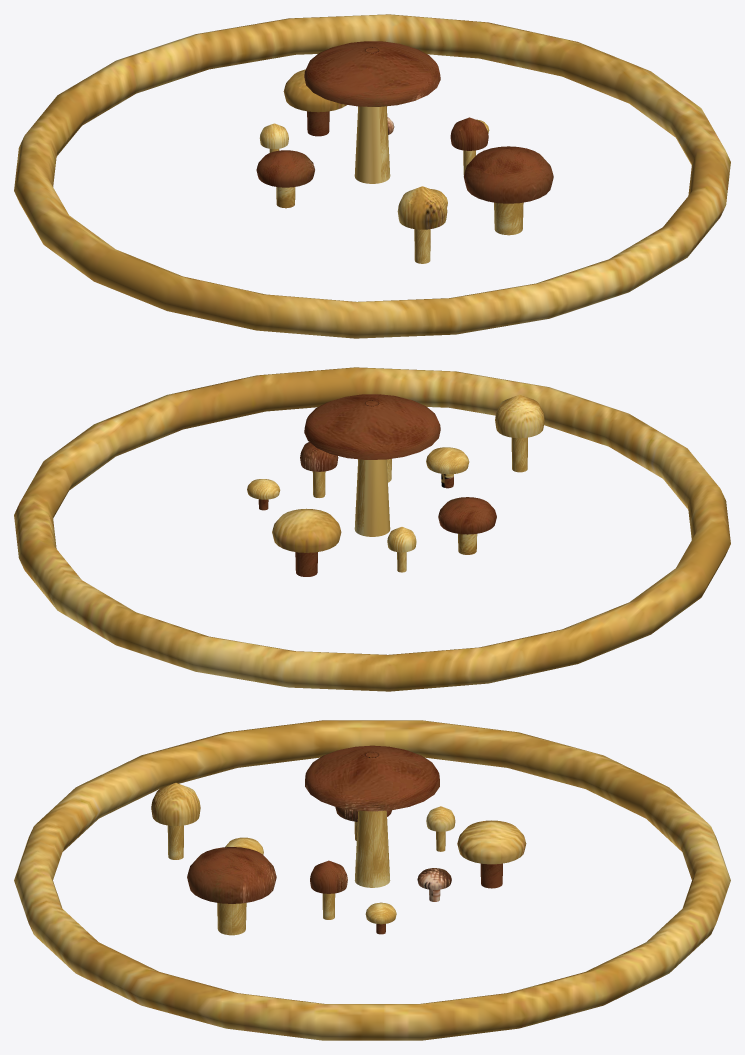
File: buildRing.FBX
3 views of the same model, one above another, from view 1: azimuth 30°, elevation 25°; view 2: azimuth 150°, elevation 25°; view 3: azimuth 270°, elevation 25° (orthographic).
Parts seen in each view (by area): view 1: Cone002; view 2: Cone002; view 3: Cone002.
Part boxes in pixels (box(x1,y1,x2,y2)): Cone002: box(14, 14, 730, 338); Cone002: box(14, 367, 730, 691); Cone002: box(14, 720, 730, 1040).
Bounding box in the file's own units: 105 × 23.65 × 107.
1 material, 1 textured.
